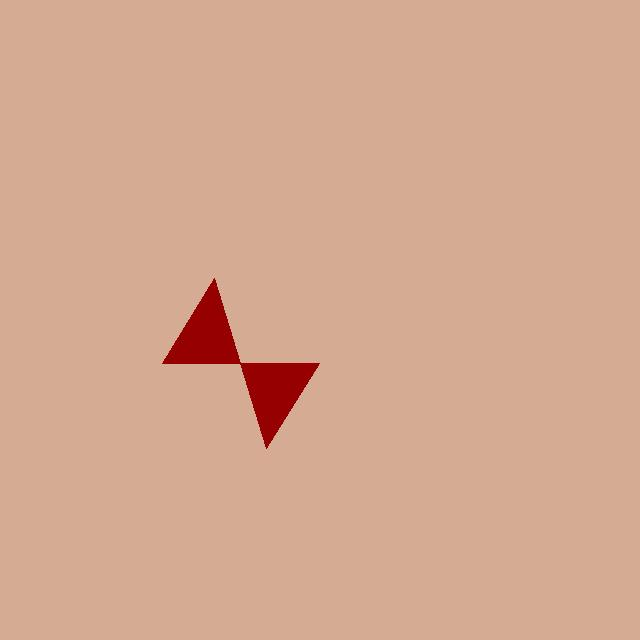laceration: (162, 278, 319, 448)
